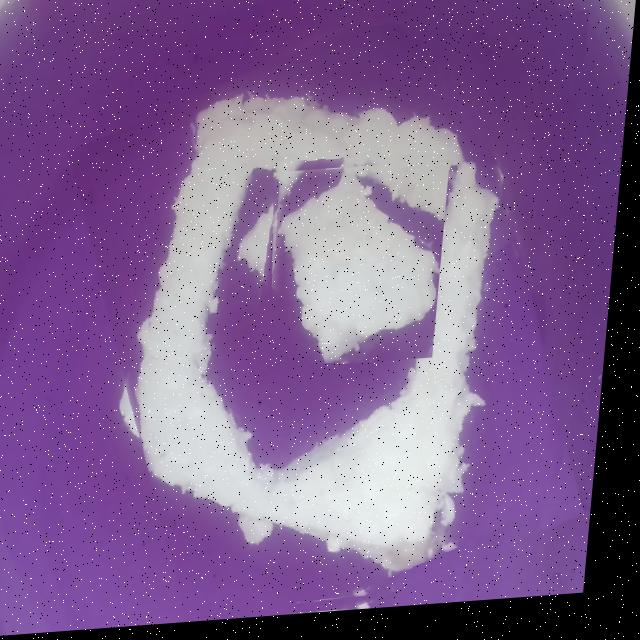litter: (76, 19, 590, 633), (264, 167, 453, 376)
